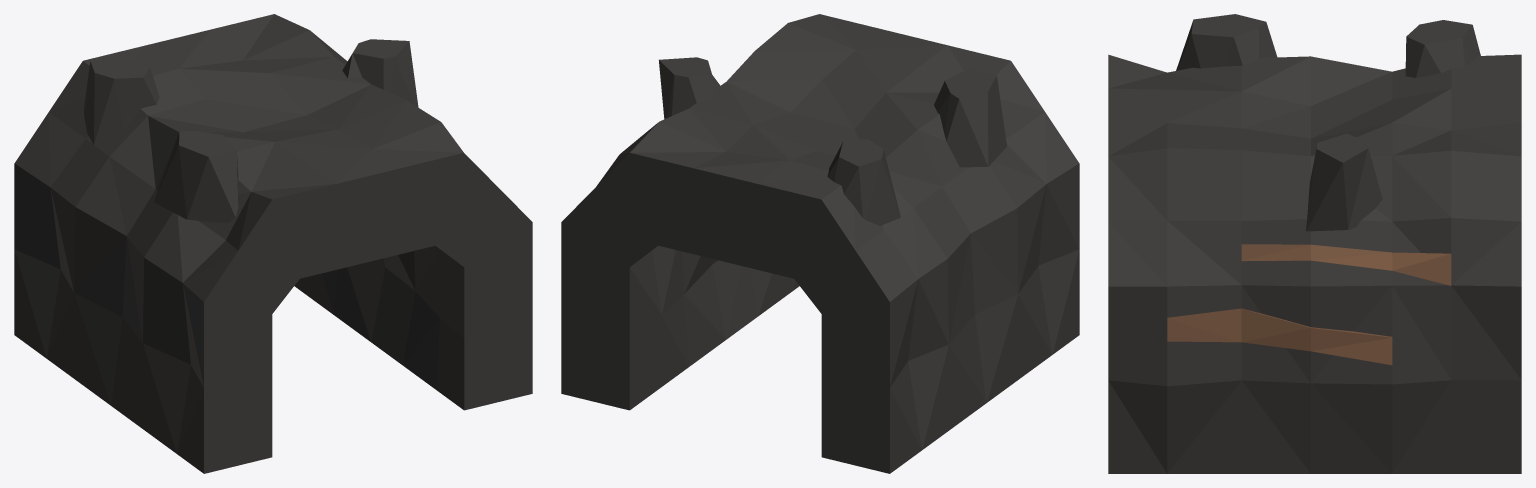
Rendered from RC_TunnelStraight.fbx.
3 views of the same model, side by side, from view 1: azimuth 30°, elevation 25°; view 2: azimuth 150°, elevation 25°; view 3: azimuth 270°, elevation 25° (orthographic). The views are drawn at different scales.
Parts seen in each view (by area): view 1: RC_TunnelStraight_Rock; view 2: RC_TunnelStraight_Rock; view 3: RC_TunnelStraight_Rock, RC_TunnelStraight_Stain.
Boxes of the visible parts, x1,y1,x2,y2 form: RC_TunnelStraight_Rock: (14,14,532,473); RC_TunnelStraight_Rock: (561,14,1079,473); RC_TunnelStraight_Rock: (1108,14,1521,473); RC_TunnelStraight_Stain: (1167,244,1451,365).
Size of the model in its own units: 24.83 by 19.4 by 24.
